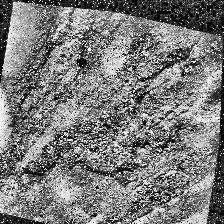pothole: (21, 80, 179, 204)
